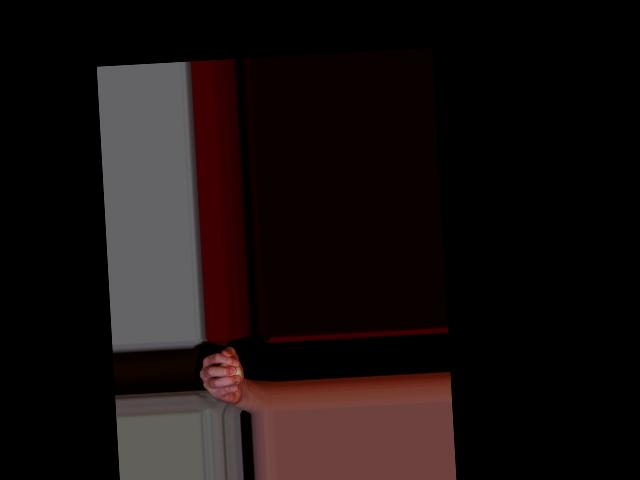egg: (217, 359, 242, 385)
